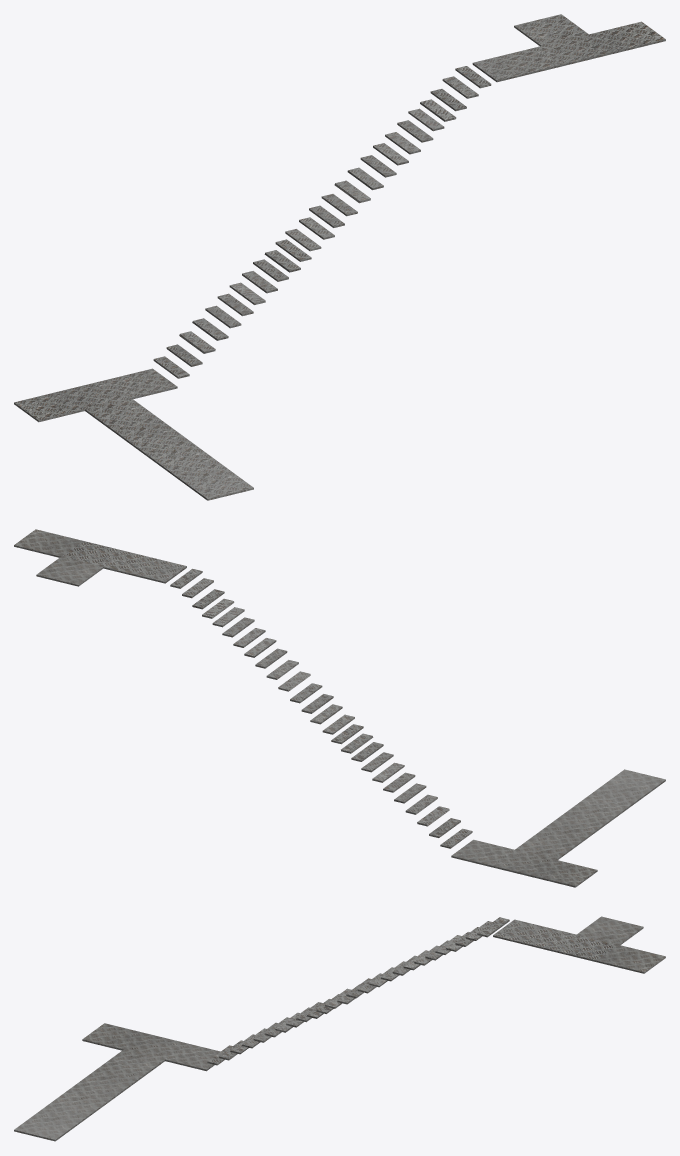
The model's file is lestnica.glb.
3 renders of one model, top to bottom at view 1: azimuth 30°, elevation 25°; view 2: azimuth 150°, elevation 25°; view 3: azimuth 330°, elevation 25°, orthographic. The views are drawn at different scales.
Visible parts, largest first — view 1: Cube.002; view 2: Cube.002; view 3: Cube.002.
Boxes of the visible parts, x1=… form: Cube.002: x1=14, y1=14, x2=665, y2=500; Cube.002: x1=14, y1=529, x2=665, y2=887; Cube.002: x1=14, y1=916, x2=665, y2=1141.
Bounding box in the file's own units: 59.11 × 20.67 × 28.55.
Materials: 1 (1 with a texture image).
